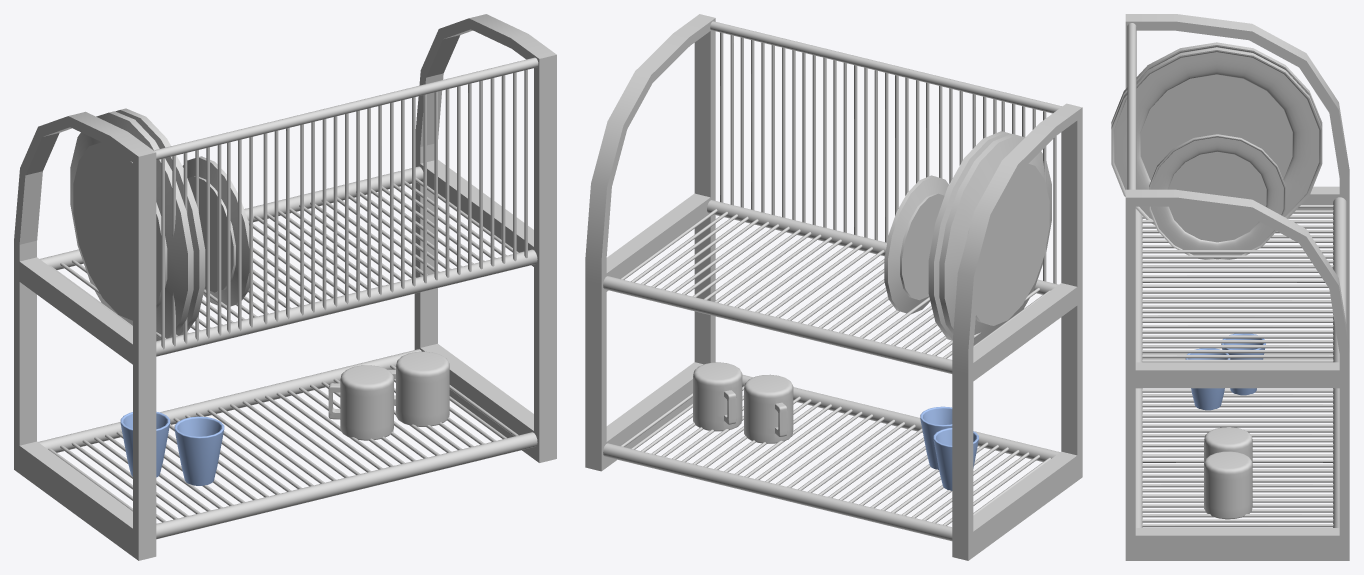
The model's file is Kitchen_DishRack.fbx.
The picture shows the model from 3 angles, left to right: view 1: azimuth 30°, elevation 25°; view 2: azimuth 150°, elevation 25°; view 3: azimuth 270°, elevation 25°; orthographic projection. The views are drawn at different scales.
Visible parts, largest first — view 1: Cylinder027, DishRack, Plate015, Plate017, Mug054, Mug053, Cup003, Plate016, Cup002; view 2: Cylinder027, DishRack, Plate015, Plate017, Mug053, Mug054, Plate016, Cup003, Cup002; view 3: Cylinder027, DishRack, Plate016, Plate017, Mug053, Mug054, Plate015, Cup003, Cup002.
Part boxes in pixels (<box>): Cylinder027: <box>38,57,538,539</box>; DishRack: <box>14,14,556,560</box>; Plate015: <box>70,111,193,340</box>; Plate017: <box>182,156,249,307</box>; Mug054: <box>328,365,393,440</box>; Mug053: <box>387,351,449,426</box>; Cup003: <box>174,416,224,485</box>; Plate016: <box>115,108,205,335</box>; Cup002: <box>120,411,170,477</box>; Cylinder027: <box>603,21,1061,541</box>; DishRack: <box>585,14,1082,560</box>; Plate015: <box>939,133,1051,345</box>; Plate017: <box>884,175,948,313</box>; Mug053: <box>693,362,742,431</box>; Mug054: <box>744,374,793,443</box>; Plate016: <box>928,131,1010,340</box>; Cup003: <box>920,406,952,469</box>; Cup002: <box>933,428,978,490</box>; Cylinder027: <box>1127,23,1346,527</box>; DishRack: <box>1125,14,1349,560</box>; Plate016: <box>1111,47,1322,224</box>; Plate017: <box>1149,134,1285,259</box>; Mug053: <box>1204,451,1252,519</box>; Mug054: <box>1204,427,1252,464</box>; Plate015: <box>1111,42,1322,126</box>; Cup003: <box>1185,348,1230,410</box>; Cup002: <box>1221,333,1265,395</box>.
Size of the model in its own units: 19.29 by 17.81 by 10.6.
